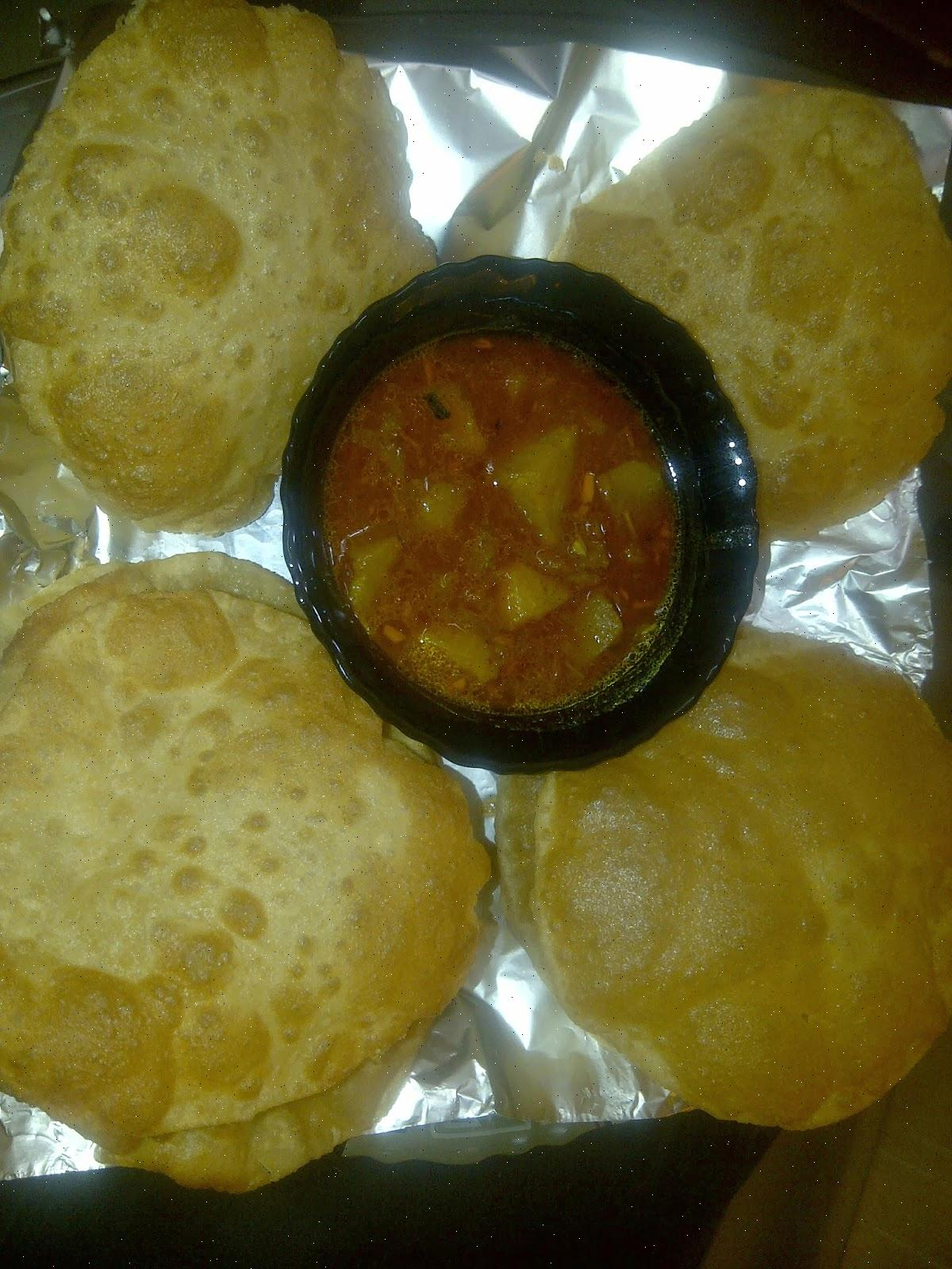puri: (8, 753, 952, 1174)
